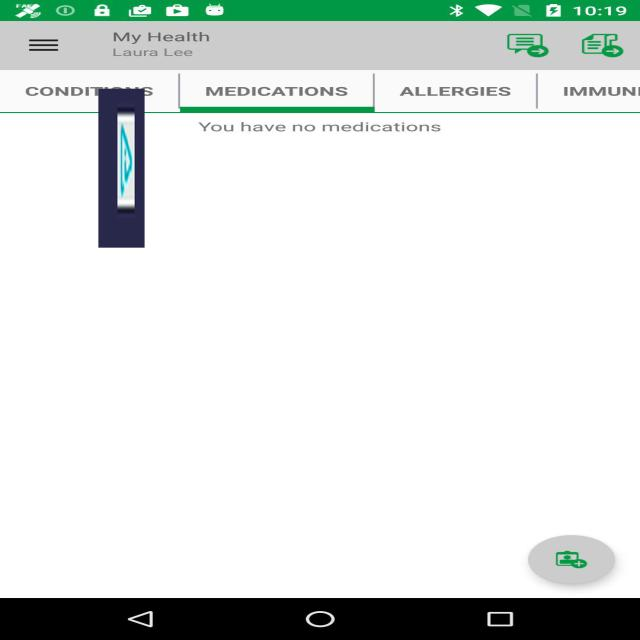sneaking: (99, 89, 144, 248)
